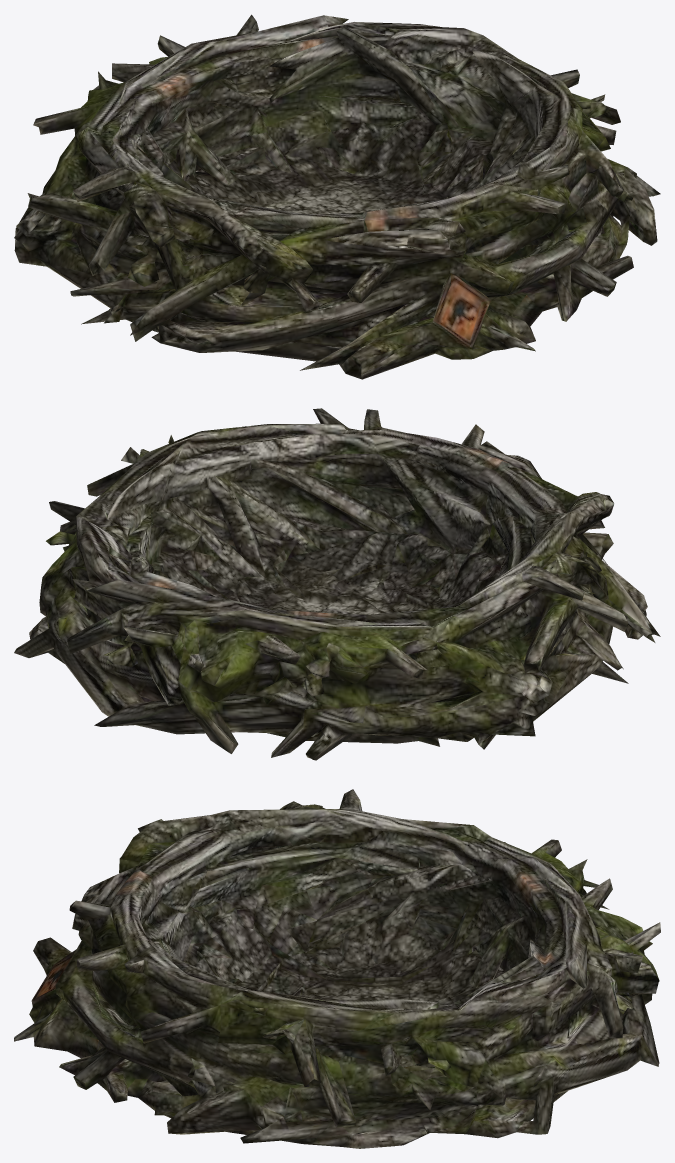
File: nest.glb
3 views of the same model, one above another, from view 1: azimuth 30°, elevation 25°; view 2: azimuth 150°, elevation 25°; view 3: azimuth 270°, elevation 25° (orthographic). The views are drawn at different scales.
Parts seen in each view (by area): view 1: Mesh_0; view 2: Mesh_0; view 3: Mesh_0.
Boxes of the visible parts, box(x1,y1,x2,y2) form: Mesh_0: box(14, 14, 660, 379); Mesh_0: box(14, 408, 660, 760); Mesh_0: box(14, 789, 660, 1148).
Size of the model in its own units: 1.89 by 0.4054 by 1.89.
Materials: 1 (1 with a texture image).
